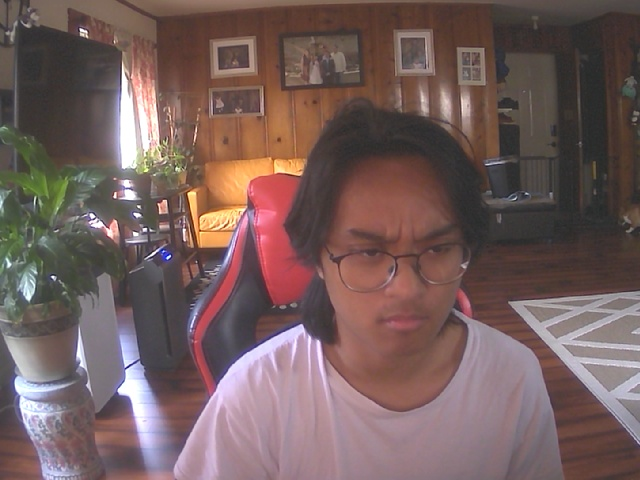anger: (313, 116, 483, 357)
